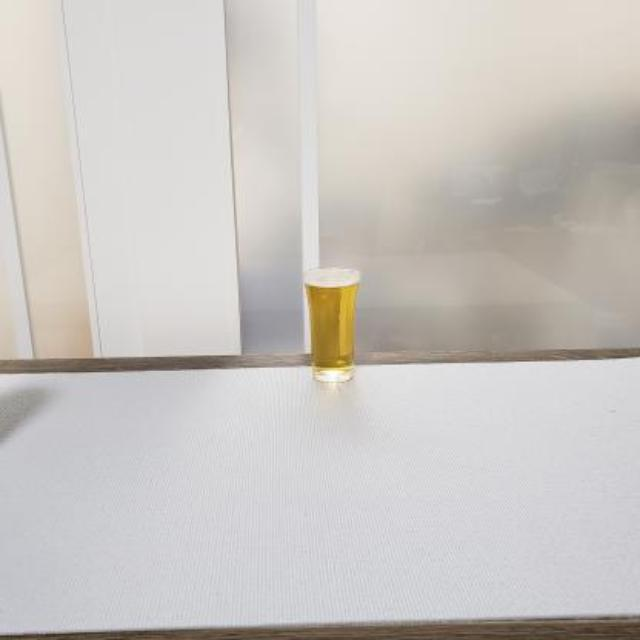glass: (306, 268, 358, 387)
